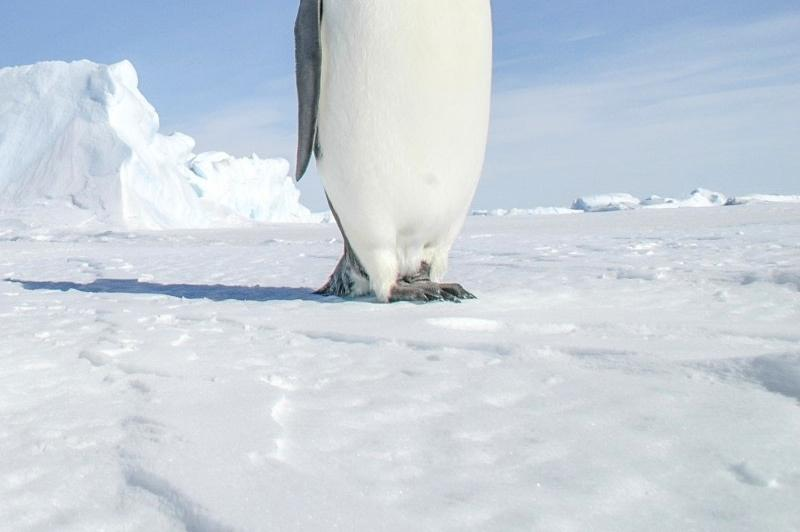Emperor Penguin: (250, 0, 533, 363), (0, 0, 11, 461)
